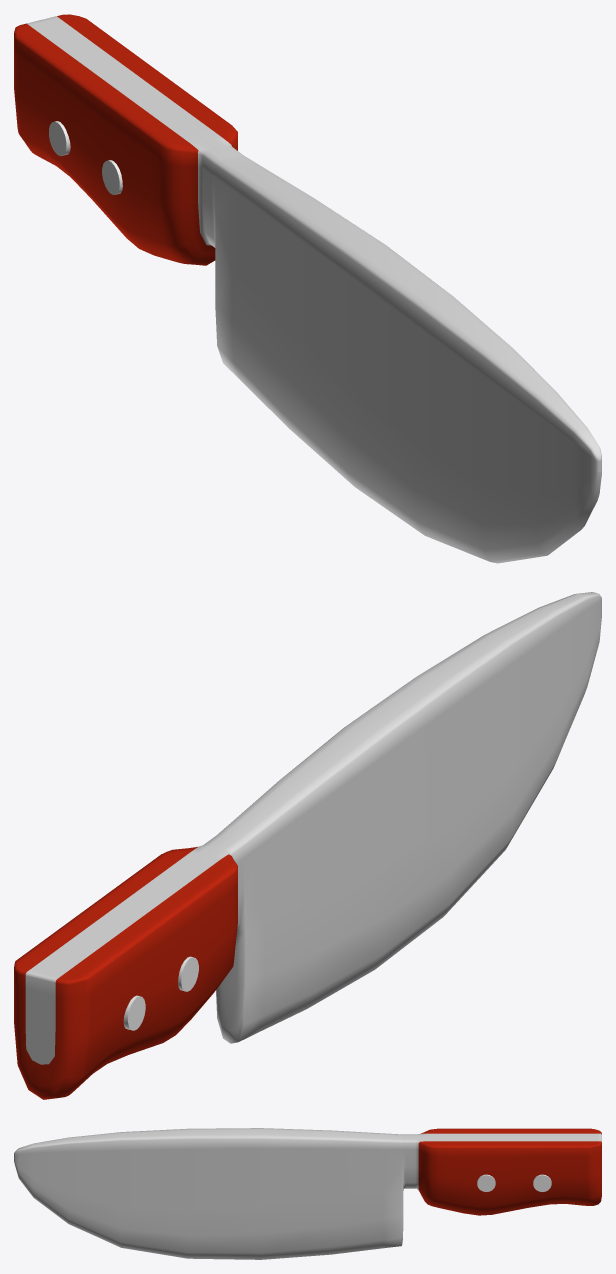
Rendered from Knife2.FBX.
The picture shows the model from 3 angles, top to bottom: view 1: azimuth 30°, elevation 25°; view 2: azimuth 150°, elevation 25°; view 3: azimuth 270°, elevation 25°; orthographic projection. The views are drawn at different scales.
Parts seen in each view (by area): view 1: Box001; view 2: Box001; view 3: Box001, Cylinder001, Cylinder002.
Boxes of the visible parts, bbox=[...] form: Box001: bbox=[14, 14, 601, 563]; Box001: bbox=[14, 592, 601, 1099]; Box001: bbox=[14, 1128, 601, 1259]; Cylinder001: bbox=[477, 1174, 495, 1191]; Cylinder002: bbox=[533, 1174, 551, 1191].
Bounding box in the file's own units: 9 × 26.22 × 110.
